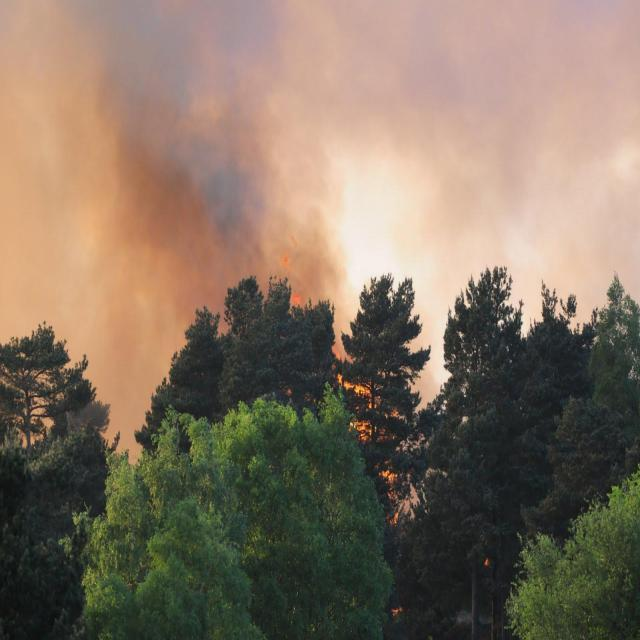Fire: (266, 240, 438, 468), (406, 482, 420, 516)
Smoke: (104, 7, 322, 190)
